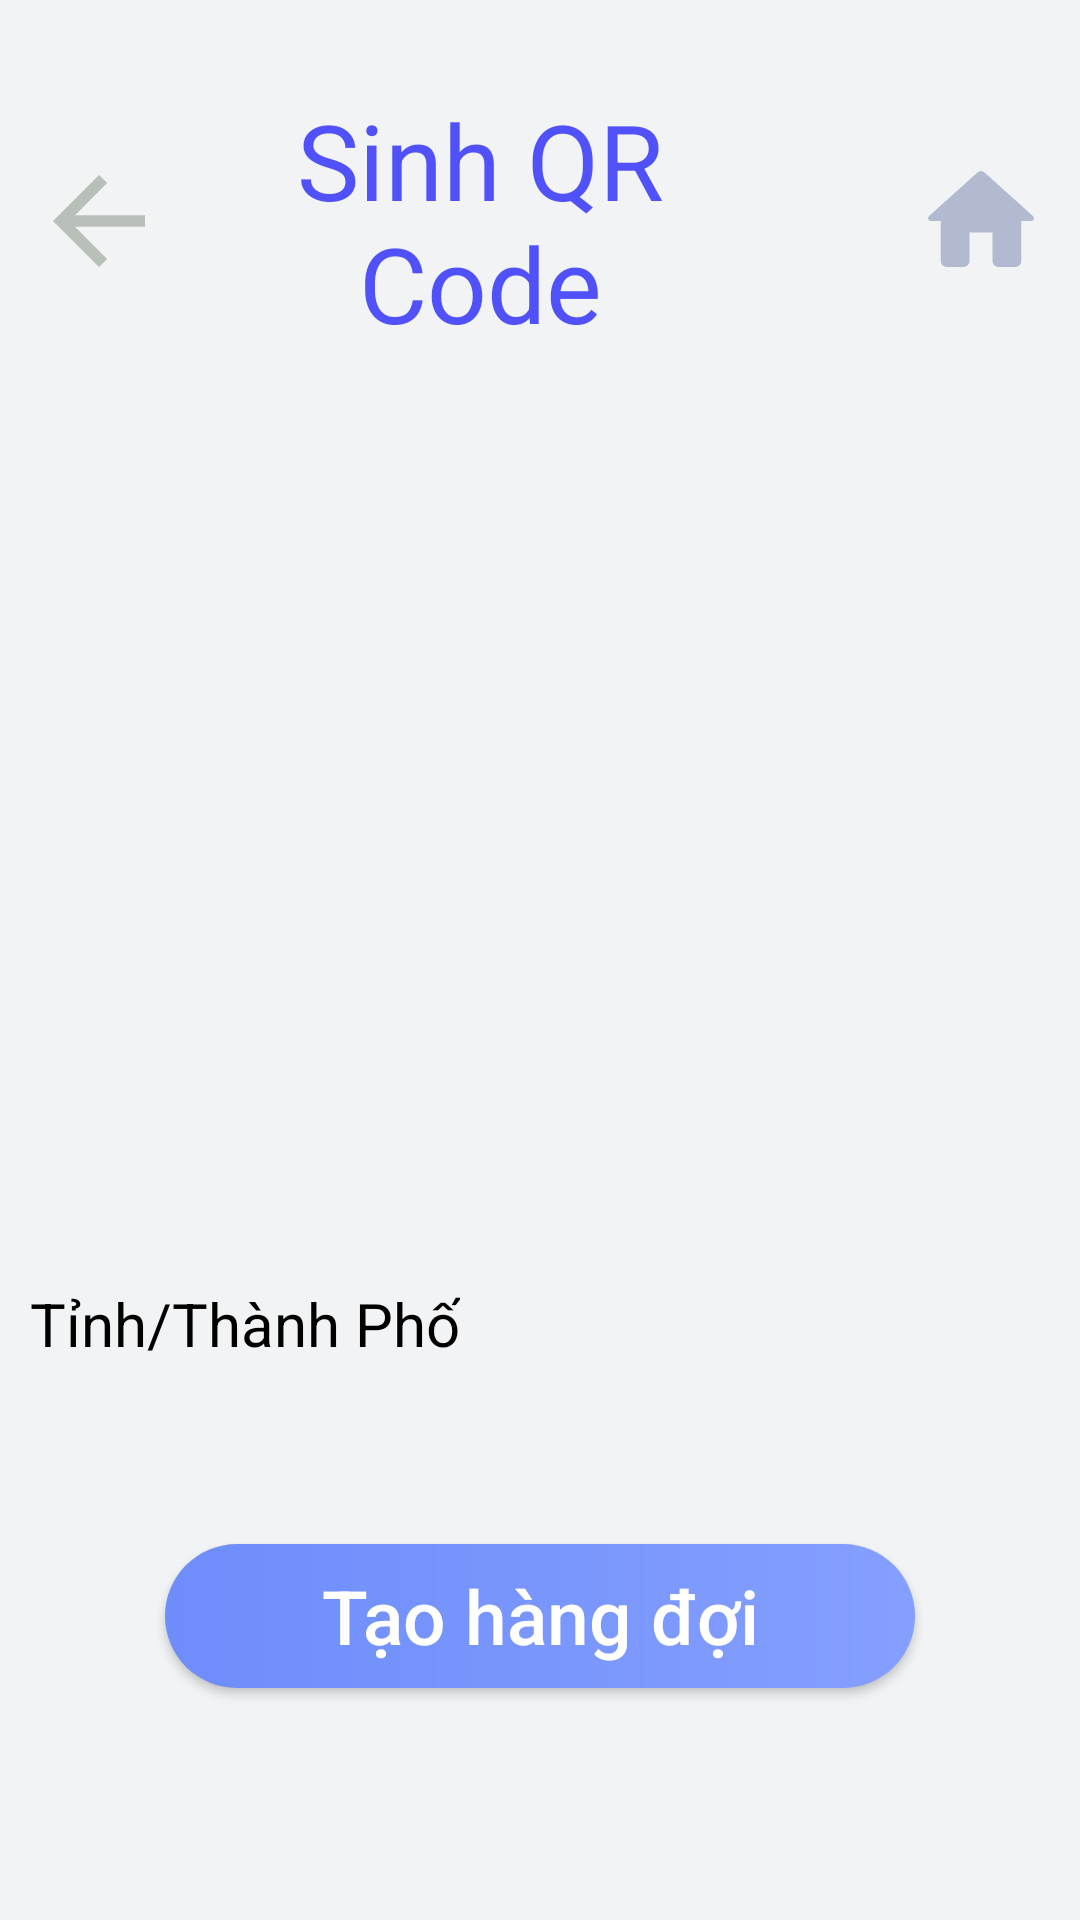

Locate icon controls on the screen. Image size 1080 × 1920, boxes as bbox=[x1, y1, x2, y2].
back: bbox=[53, 175, 145, 267]
home: bbox=[928, 171, 1034, 267]
